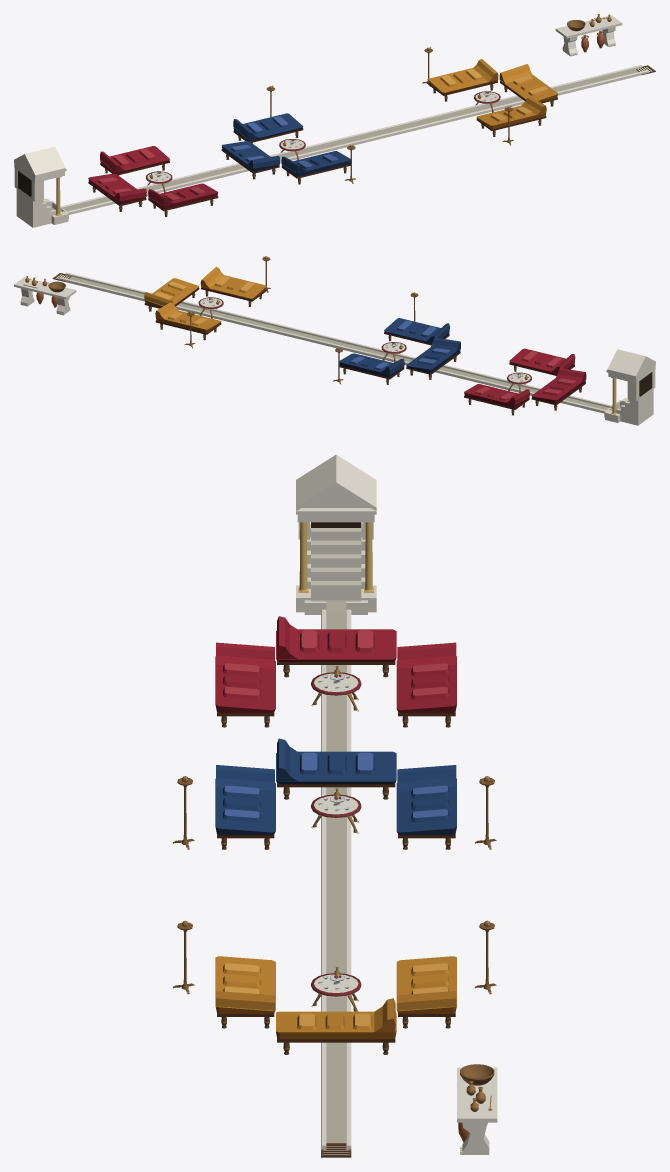
The model's file is rome_tr_fit_S01.glb.
3 views of the same model, one above another, from view 1: azimuth 30°, elevation 25°; view 2: azimuth 150°, elevation 25°; view 3: azimuth 270°, elevation 25° (orthographic). The views are drawn at different scales.
Parts seen in each view (by area): view 1: room_S01; view 2: room_S01; view 3: room_S01.
Part boxes in pixels (left/top/right/bottom): room_S01: left=14, top=14, right=655, bottom=227; room_S01: left=14, top=256, right=655, bottom=425; room_S01: left=173, top=454, right=497, bottom=1157.
Size of the model in its own units: 27.15 by 2.8 by 6.45.
